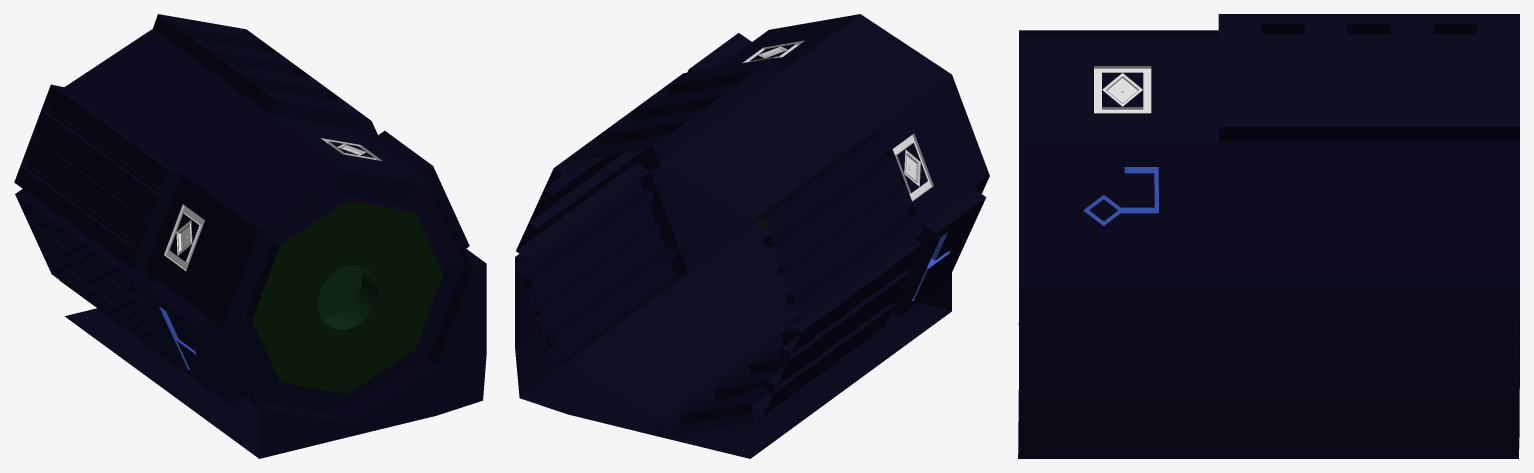
File: Tower.fbx
3 views of the same model, side by side, from view 1: azimuth 30°, elevation 25°; view 2: azimuth 150°, elevation 25°; view 3: azimuth 270°, elevation 25° (orthographic). The views are drawn at different scales.
Visible parts, largest first — view 1: Terrain, Tower, ThirdBand, ObjectifLvl1, SecondBand, FirstBand; view 2: Terrain, ObjectifLvl1; view 3: Terrain, ObjectifLvl2.
Boxes of the visible parts, left/top/right/bottom form: Terrain: left=14, top=14, right=486, bottom=458; Tower: left=317, top=265, right=377, bottom=329; ThirdBand: left=227, top=176, right=452, bottom=401; ObjectifLvl1: left=164, top=204, right=204, bottom=270; SecondBand: left=233, top=180, right=446, bottom=395; FirstBand: left=224, top=172, right=457, bottom=406; Terrain: left=515, top=14, right=989, bottom=458; ObjectifLvl1: left=892, top=133, right=933, bottom=201; Terrain: left=1018, top=14, right=1519, bottom=458; ObjectifLvl2: left=1094, top=66, right=1151, bottom=113.
Bounding box in the file's own units: 6639 × 6386 × 8096.
